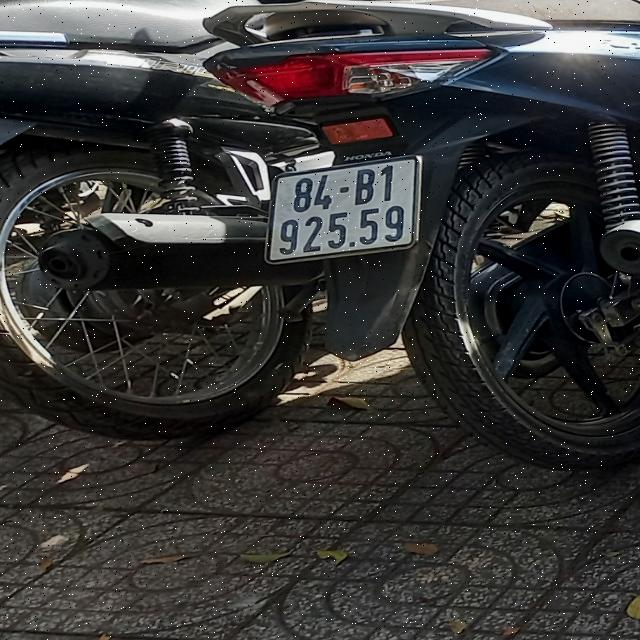1: (381, 166, 396, 201)
2: (302, 216, 322, 253)
4: (314, 174, 330, 210)
5: (325, 211, 348, 249), (358, 207, 378, 245)
8: (294, 177, 312, 212)
9: (384, 204, 404, 242), (278, 219, 298, 255)
B: (355, 170, 375, 205)
